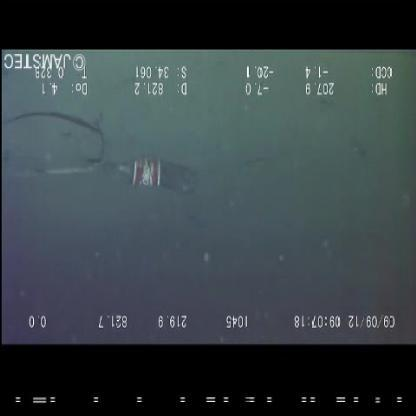Rác: (108, 150, 204, 212)
